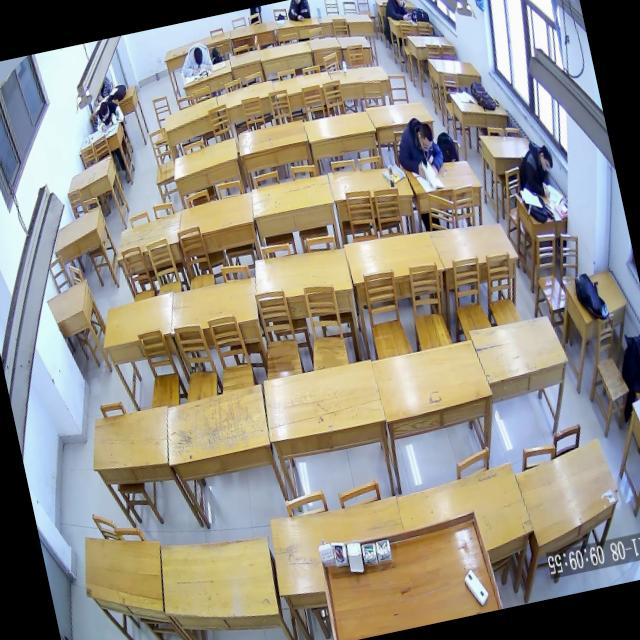bow: (176, 40, 214, 77), (92, 98, 126, 134)
down: (415, 122, 436, 154), (536, 142, 554, 172), (192, 45, 205, 66), (98, 100, 110, 120), (393, 0, 405, 6)
sit: (391, 112, 446, 184), (513, 138, 560, 202), (381, 0, 410, 24)
